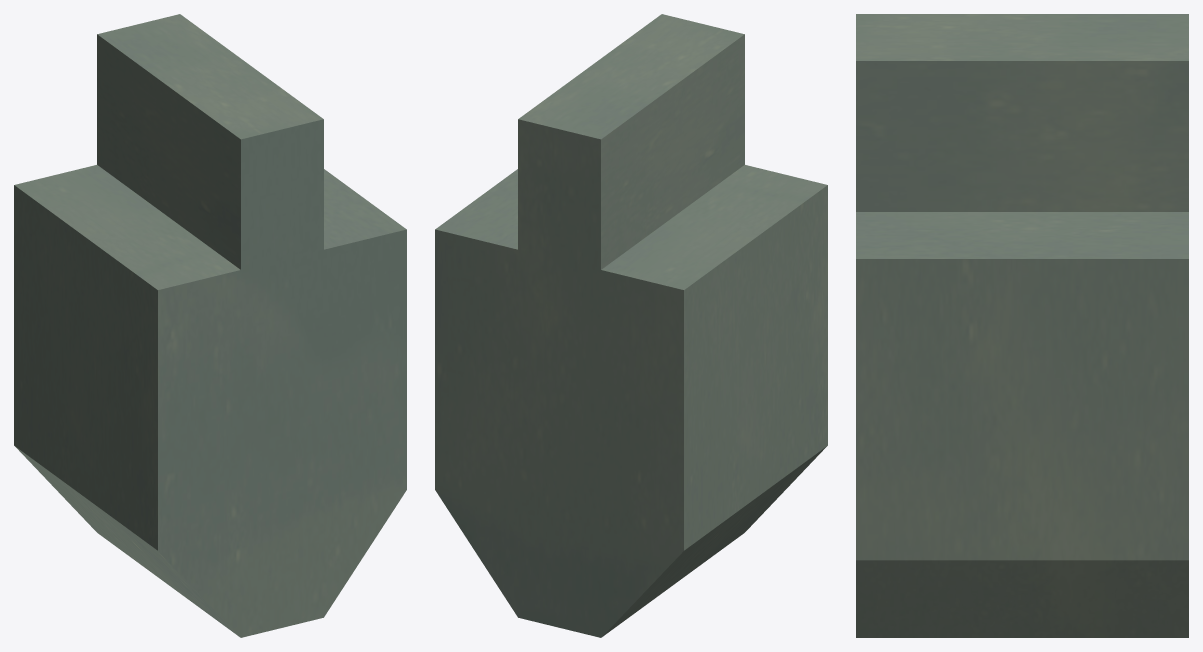
Rendered from draidel pivot.fbx.
3 renders of one model, left to right at view 1: azimuth 30°, elevation 25°; view 2: azimuth 150°, elevation 25°; view 3: azimuth 270°, elevation 25°, orthographic. The views are drawn at different scales.
Parts seen in each view (by area): view 1: draidel; view 2: draidel; view 3: draidel.
Part boxes in pixels (x1,y1,x2,y2): draidel: [14, 14, 406, 637]; draidel: [435, 14, 827, 637]; draidel: [856, 14, 1188, 637].
Size of the model in its own units: 200 by 383 by 200.
